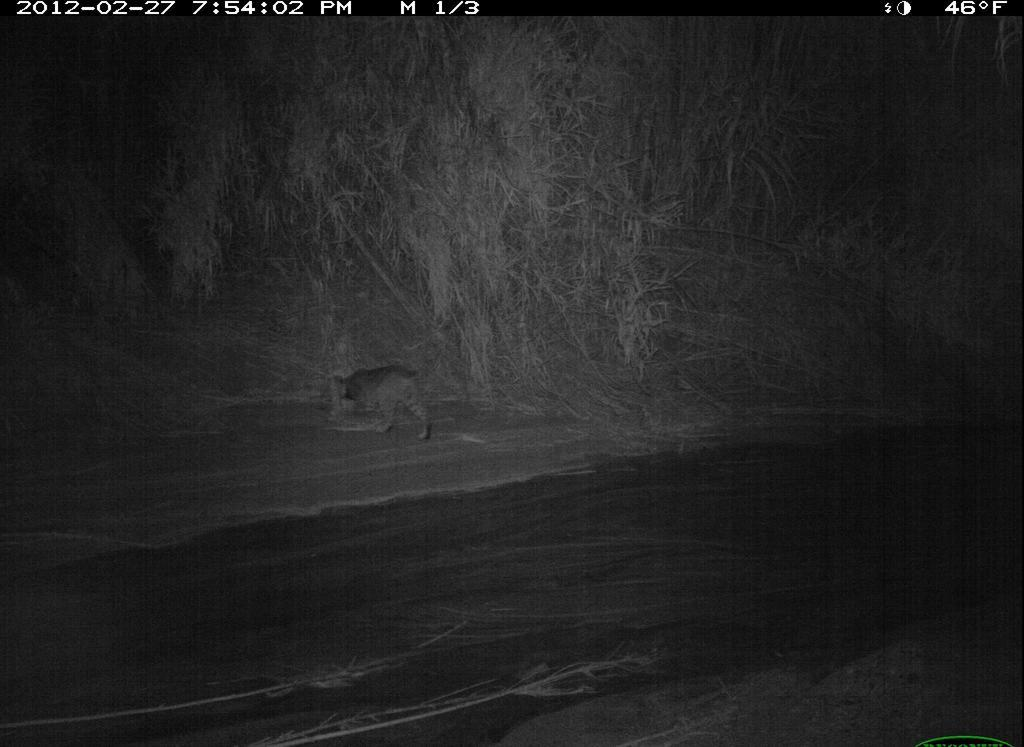bobcat: (326, 354, 446, 450)
